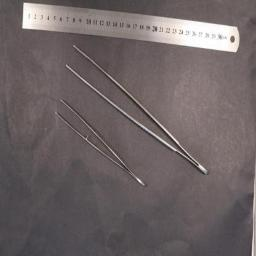DeBakey Dissector: (66, 44, 208, 176)
Gillies Toothed Dissector: (54, 98, 146, 188)
